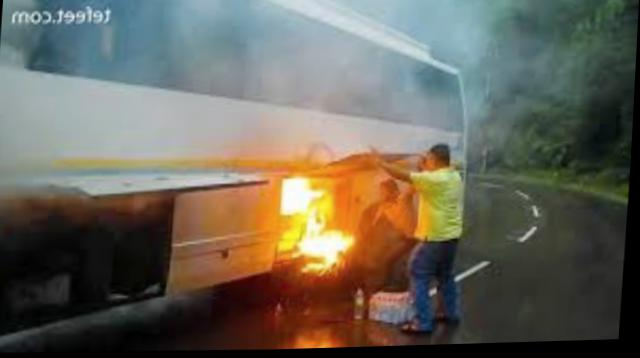fire: (254, 158, 384, 286)
